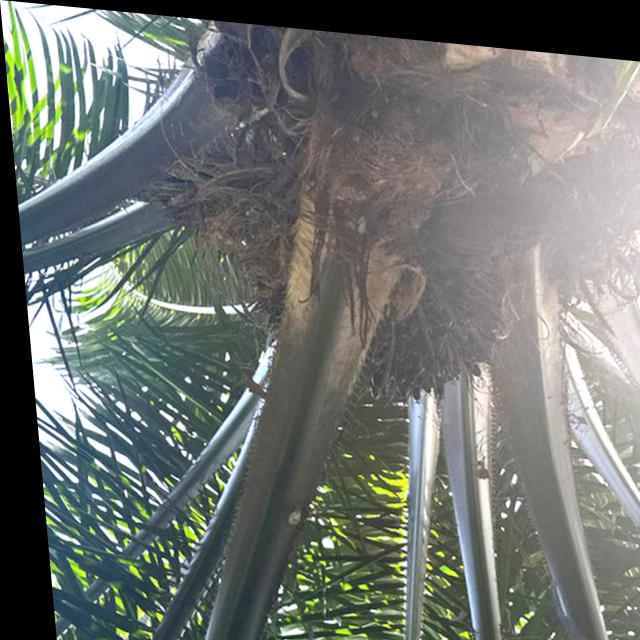ripe: (323, 221, 522, 421)
